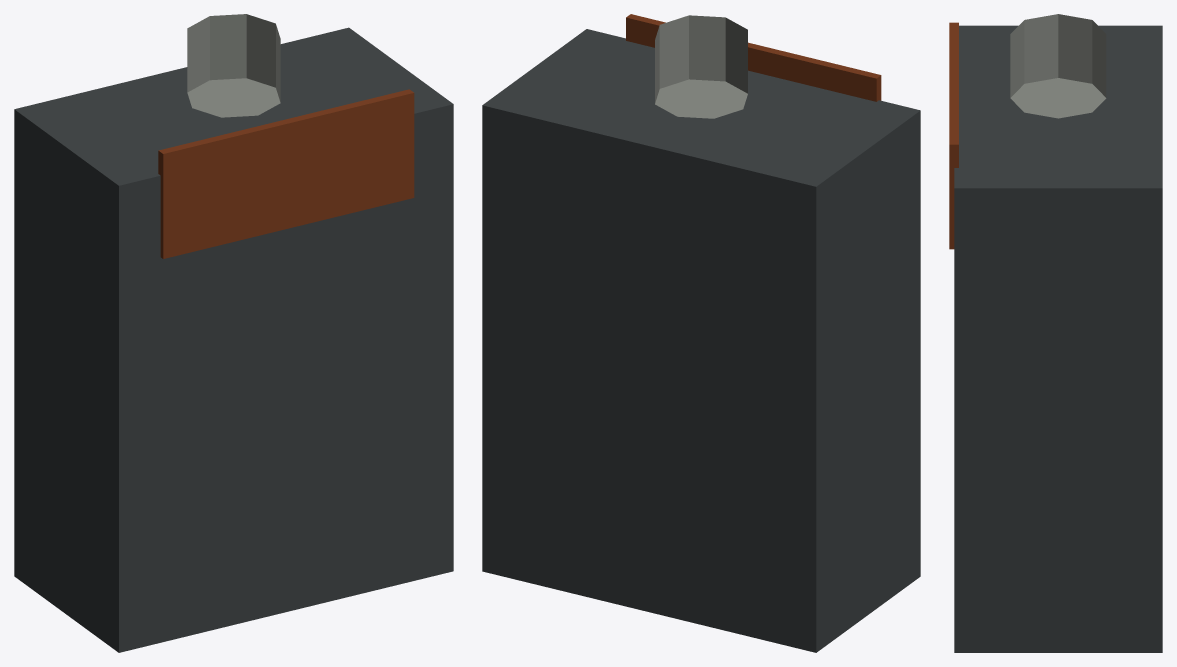
The model's file is airer.glb.
3 views of the same model, side by side, from view 1: azimuth 30°, elevation 25°; view 2: azimuth 150°, elevation 25°; view 3: azimuth 270°, elevation 25° (orthographic).
Visible parts, largest first — view 1: body; view 2: body; view 3: body.
Boxes of the visible parts, <box> form: body: <box>14,14,453,652</box>; body: <box>482,14,920,652</box>; body: <box>949,14,1162,652</box>.
Size of the model in its own units: 0.72 by 1.11 by 0.399.
Materials: 1 (1 with a texture image).
